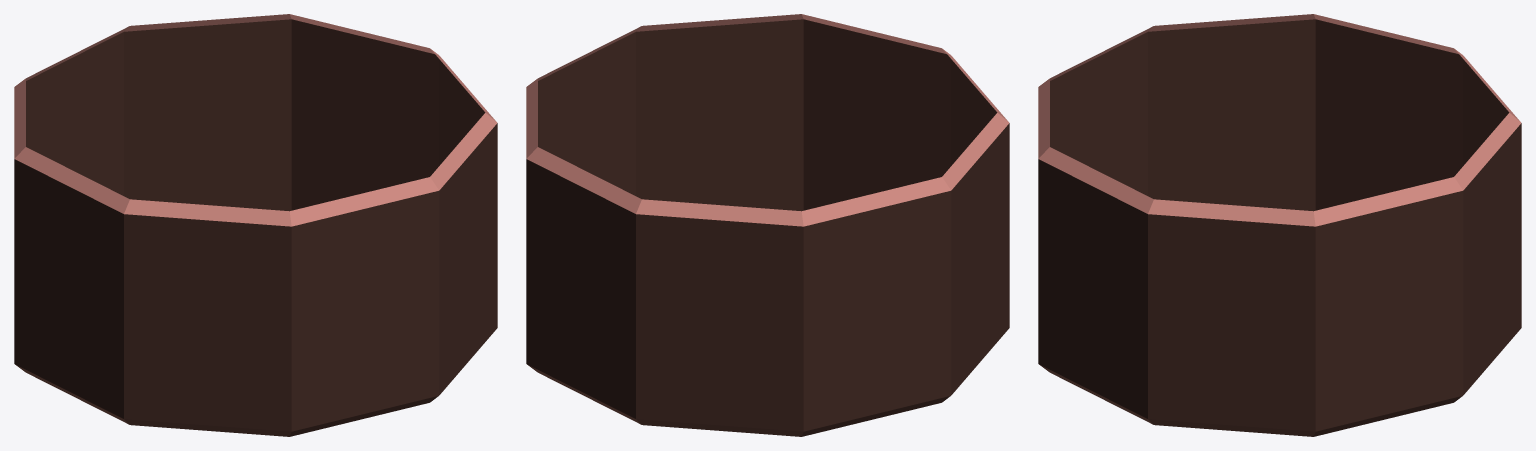
File: ring.glb
The picture shows the model from 3 angles, left to right: view 1: azimuth 30°, elevation 25°; view 2: azimuth 150°, elevation 25°; view 3: azimuth 270°, elevation 25°; orthographic projection.
Parts seen in each view (by area): view 1: Cylinder; view 2: Cylinder; view 3: Cylinder.
Part boxes in pixels (box(x1,y1,x2,y2)): Cylinder: box(14, 14, 497, 436); Cylinder: box(526, 14, 1009, 436); Cylinder: box(1038, 14, 1521, 436).
Bounding box in the file's own units: 0.7318 × 0.3715 × 0.7207.
